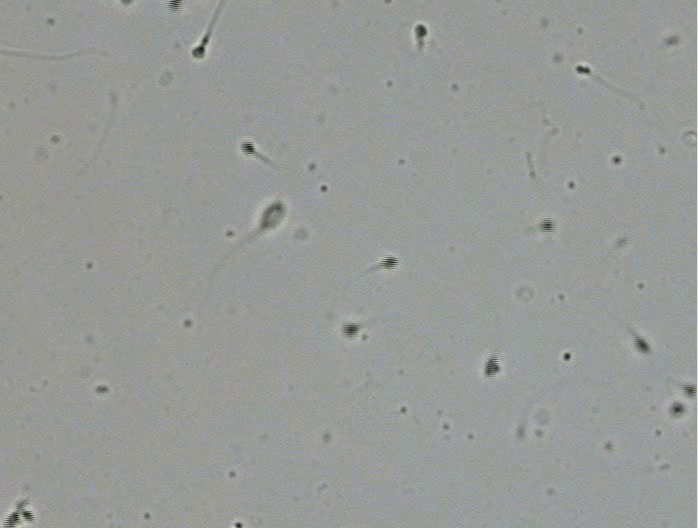S: (260, 201, 287, 229), (485, 355, 501, 377), (241, 140, 259, 157), (633, 336, 651, 353), (3, 512, 21, 528), (343, 322, 360, 338), (381, 256, 399, 271), (681, 384, 697, 399), (540, 218, 556, 232), (166, 1, 183, 13), (20, 509, 35, 522), (670, 403, 685, 416), (192, 45, 205, 59), (415, 24, 427, 38), (575, 65, 591, 75)
